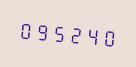five: (50, 18, 65, 46)
four: (82, 21, 97, 49)
nine: (33, 17, 48, 45)
two: (66, 19, 81, 48)
zero: (17, 15, 32, 43), (98, 22, 113, 50)
